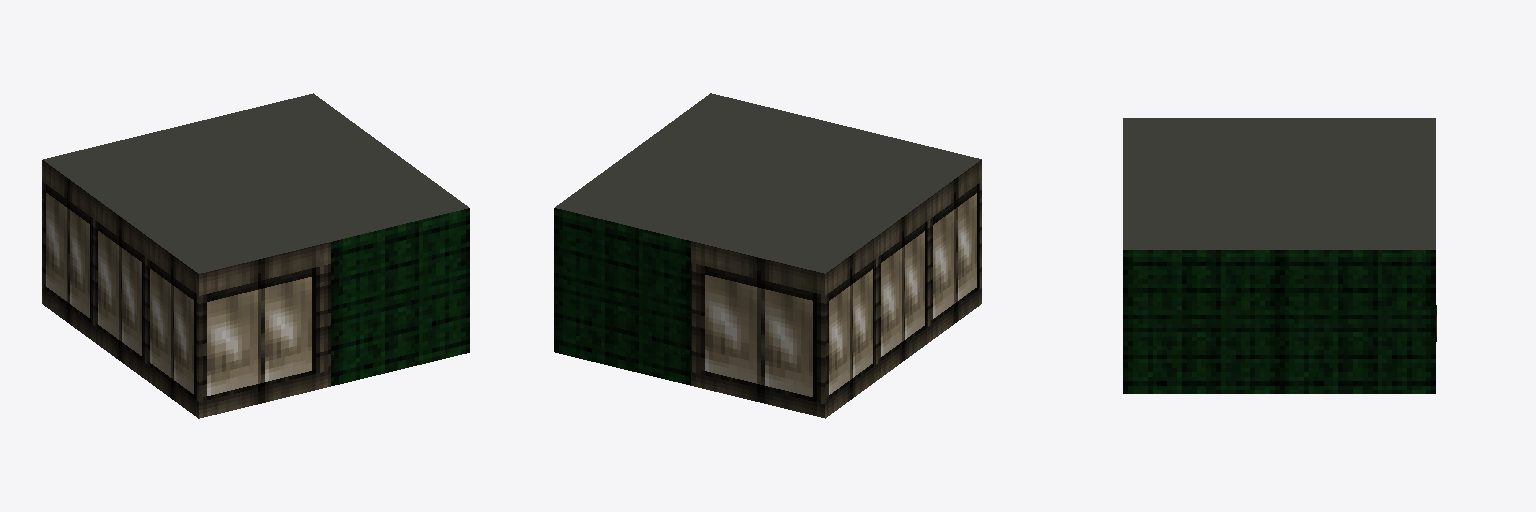
The picture shows the model from 3 angles: view 1: azimuth 30°, elevation 25°; view 2: azimuth 150°, elevation 25°; view 3: azimuth 270°, elevation 25°; orthographic projection.
Parts seen in each view (by area): view 1: foodfps.001; view 2: foodfps.001; view 3: foodfps.001.
Boxes of the visible parts, box(x1,y1,x2,y2) form: foodfps.001: box(42, 93, 469, 418); foodfps.001: box(554, 93, 981, 418); foodfps.001: box(1123, 118, 1436, 393).
Size of the model in its own units: 16 by 8.16 by 16.03.
7 materials, 6 textured.